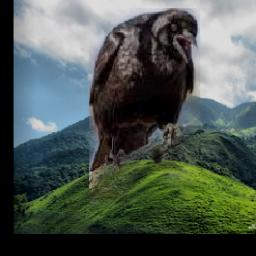Crow: (88, 8, 199, 205)
